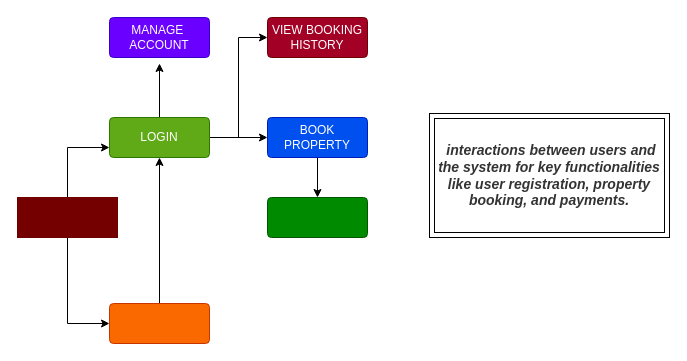
The diagram is 687 pixels wide and 361 high, and some of its shapes have lost their labels. The shapes that lost their labels are listed below. From the top down, each one's centre as x and y in pixels, then its label:
the point at 67,217: USER
the point at 317,217: MAKE PAYMENT
the point at 159,323: REGISTER
